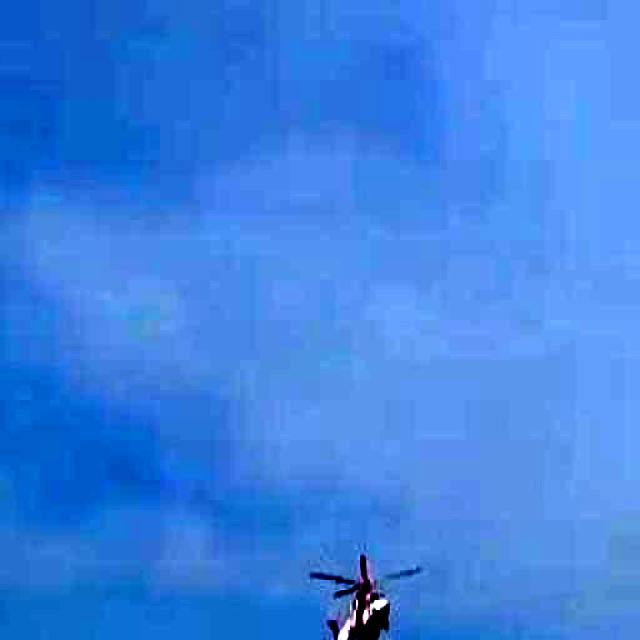drone: (302, 548, 420, 640)
